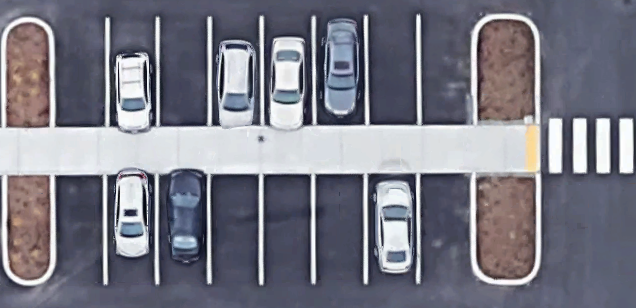Occupied: (260, 17, 315, 125), (104, 174, 157, 286), (365, 175, 419, 284), (209, 18, 263, 126), (313, 18, 367, 125), (156, 176, 209, 283), (108, 19, 158, 126)
Vacant: (52, 18, 108, 126), (419, 18, 475, 125), (365, 18, 420, 126), (260, 175, 314, 284), (312, 175, 366, 283), (54, 174, 105, 286), (209, 175, 261, 284), (419, 175, 471, 283), (159, 18, 210, 127)
